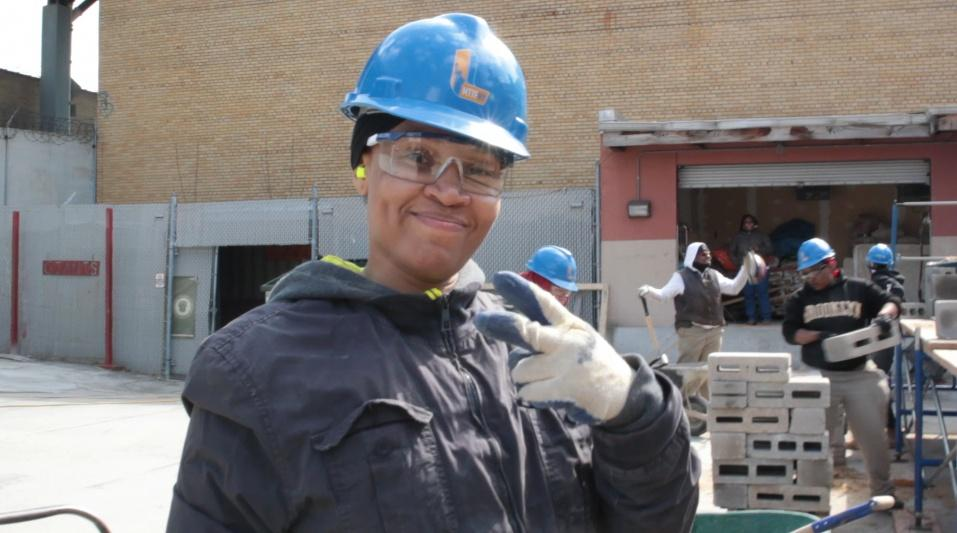helmet: (343, 13, 530, 159), (529, 246, 579, 293), (796, 239, 833, 272), (869, 244, 897, 267)
